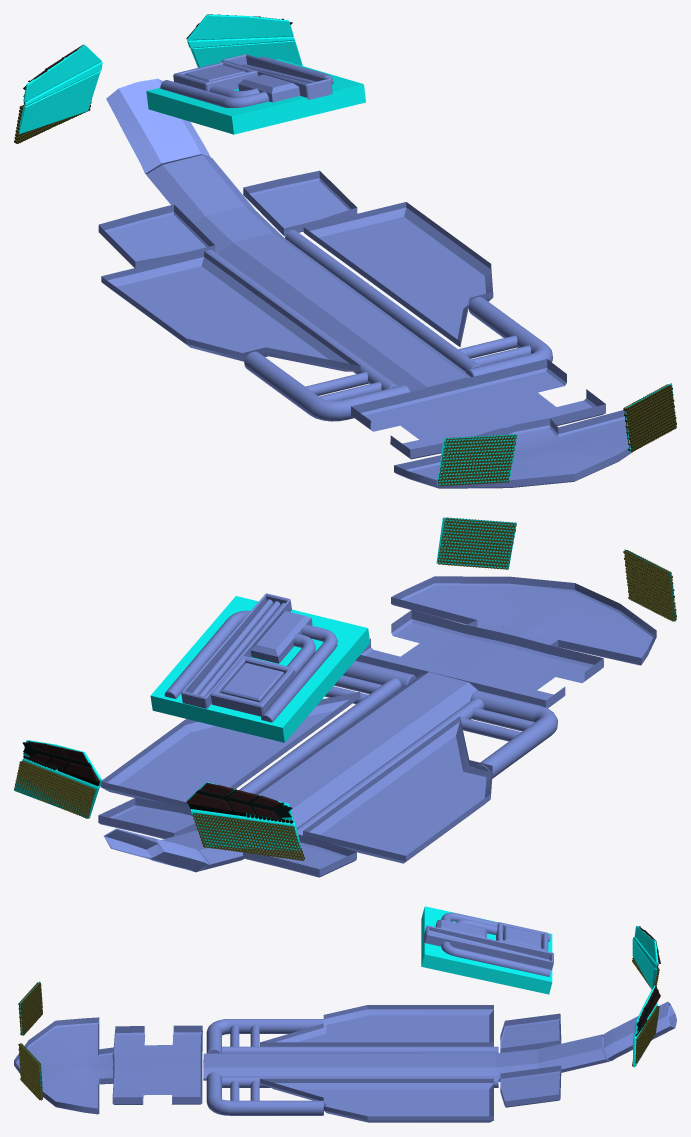
File: Reventon_High.fbx
The picture shows the model from 3 angles, top to bottom: view 1: azimuth 30°, elevation 25°; view 2: azimuth 150°, elevation 25°; view 3: azimuth 270°, elevation 25°; orthographic projection. The views are drawn at different scales.
Visible parts, largest first — view 1: Reventon_High; view 2: Reventon_High; view 3: Reventon_High.
Boxes of the visible parts, x1,y1,x2,y2 form: Reventon_High: (14, 14, 676, 488); Reventon_High: (14, 517, 676, 877); Reventon_High: (14, 906, 676, 1122).
Size of the model in its own units: 203 by 130 by 512.
